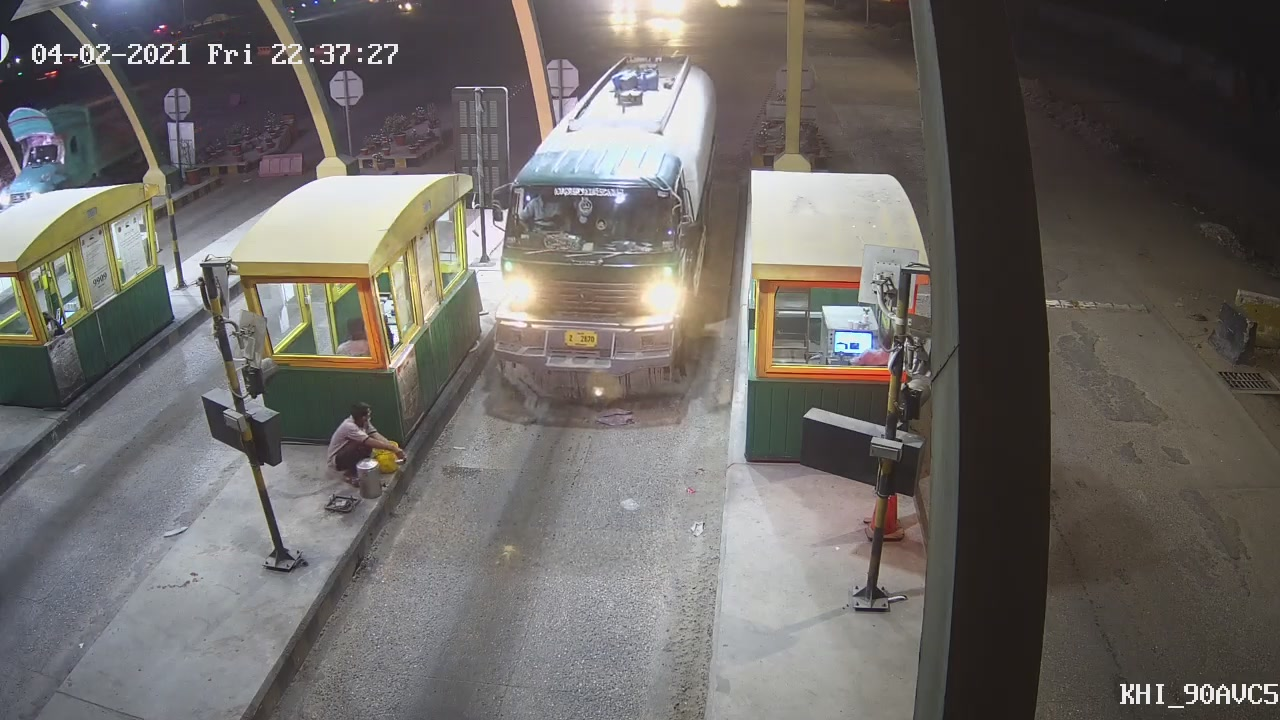F6: (491, 51, 728, 403)
